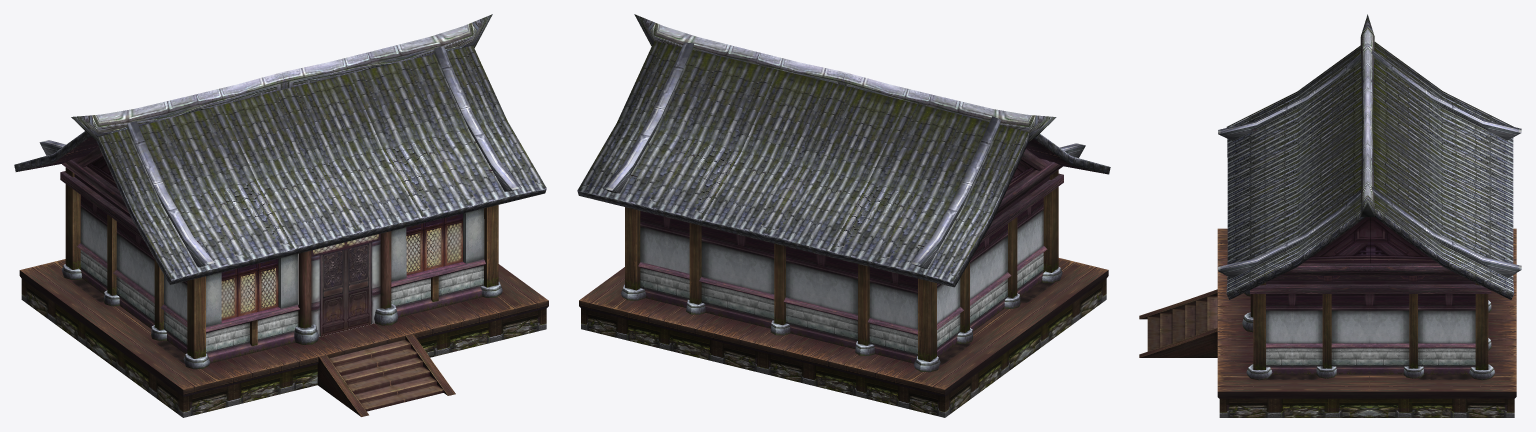
File: SWDS_building_04.FBX
3 views of the same model, side by side, from view 1: azimuth 30°, elevation 25°; view 2: azimuth 150°, elevation 25°; view 3: azimuth 270°, elevation 25° (orthographic). The views are drawn at different scales.
Visible parts, largest first — view 1: SWDS_building_04; view 2: SWDS_building_04; view 3: SWDS_building_04.
Part boxes in pixels (bbox=[...]): SWDS_building_04: bbox=[14, 14, 548, 417]; SWDS_building_04: bbox=[577, 14, 1110, 417]; SWDS_building_04: bbox=[1139, 14, 1521, 417].
Size of the model in its own units: 1745 by 985 by 1496.
